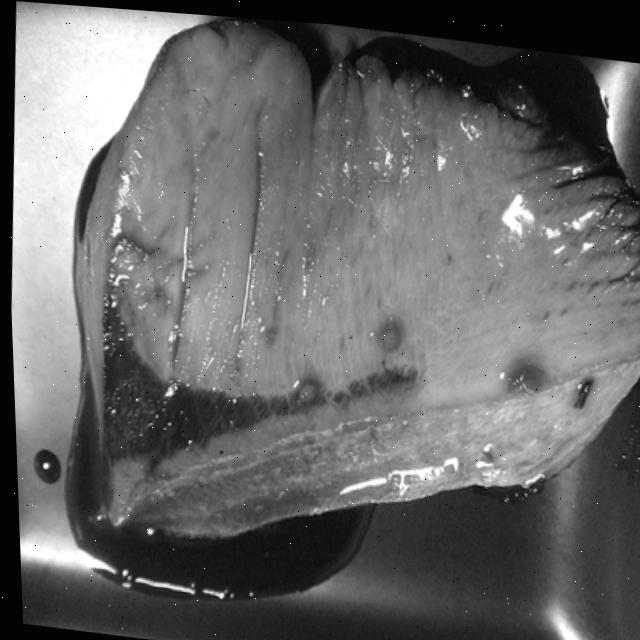熟制海鲜: (20, 1, 640, 629)
